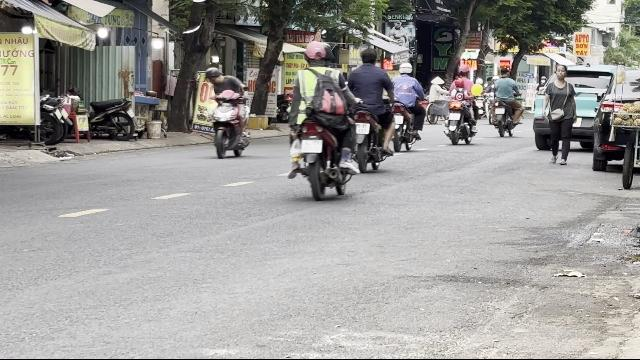helmet: (303, 40, 329, 66), (206, 66, 222, 82)
licenseplate: (302, 140, 322, 152), (355, 123, 369, 133)
motorcyclist: (283, 39, 355, 199), (345, 46, 393, 172), (204, 64, 252, 158)
nohelmet: (358, 47, 376, 65), (554, 64, 568, 80)
